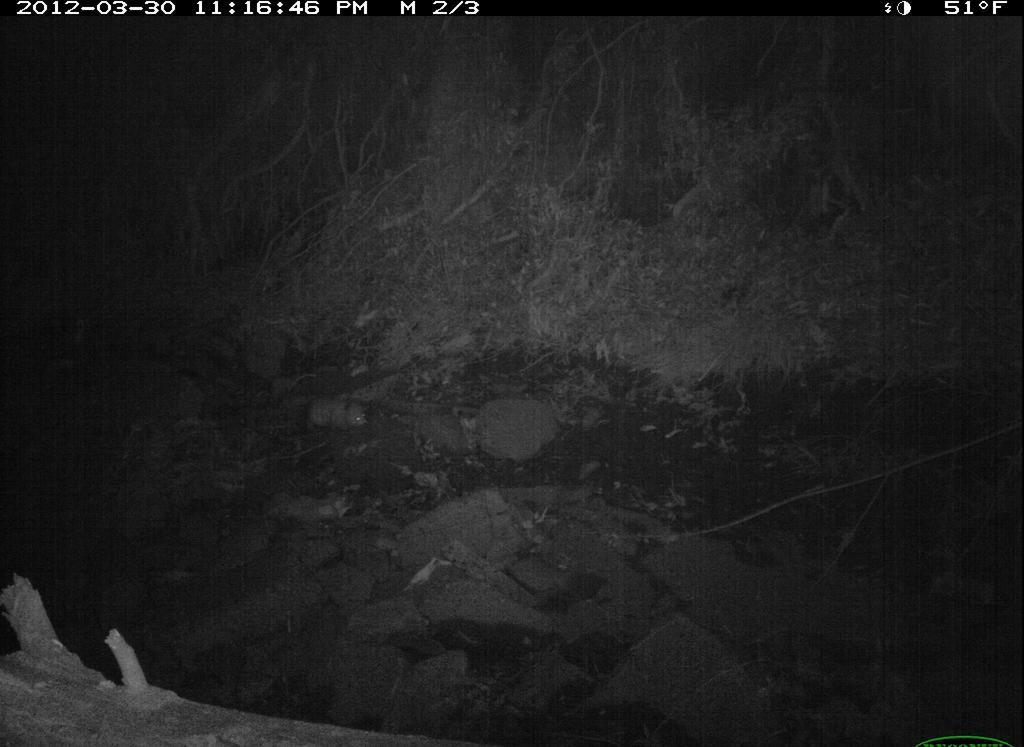opossum: (281, 381, 379, 449)
